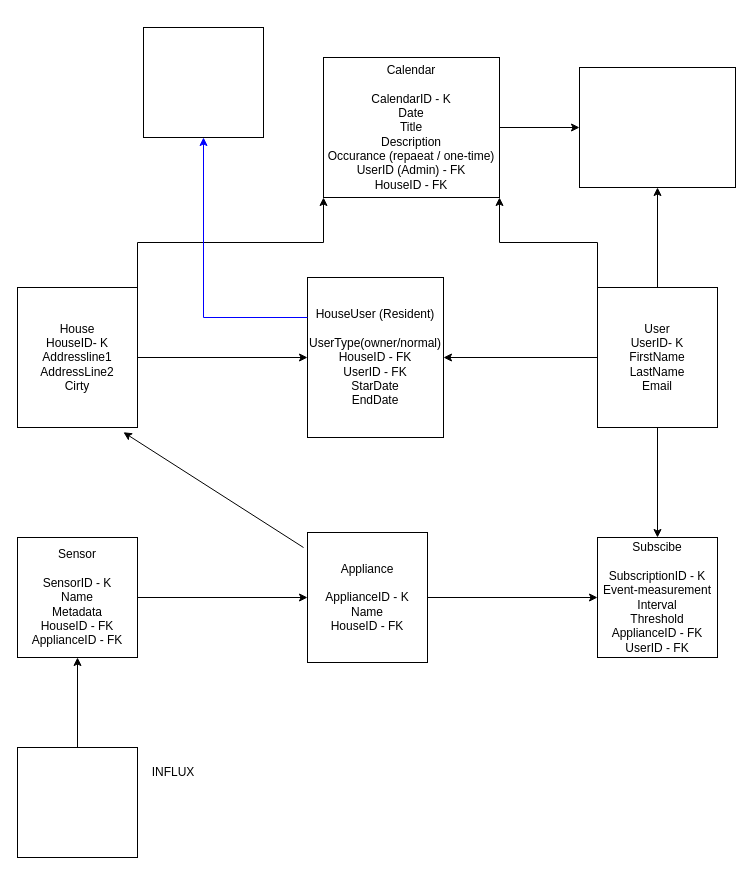
This 753x875 diagram has some shape labels left out. Each missing label, with the centre of its shape:
"CalendarAccess AccessID - K AccessType (edit / view) CalenderID - FK UserID - FK" goes at [657,127].
"Letter Letter ID - PK HouseID - FK UserID - FK Letter Type MessageText Date" goes at [203,82].
"Measurement Timestamp - K Key Value SensorID - FK" goes at [77,802].
